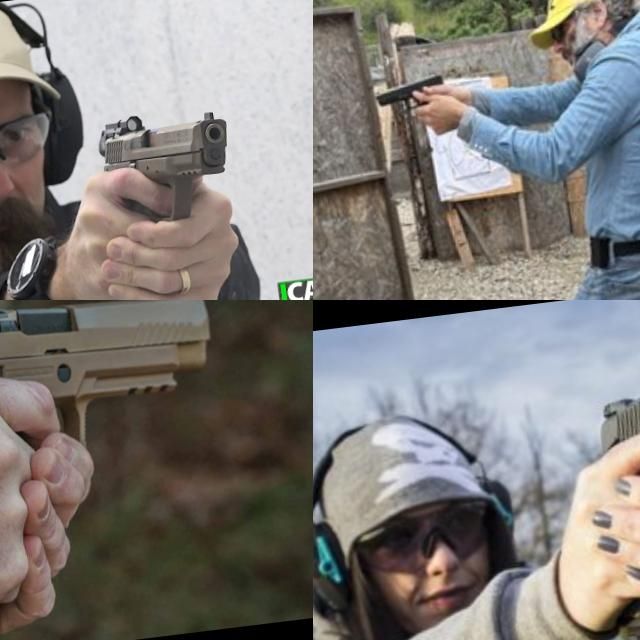handgun: (0, 300, 235, 517), (571, 300, 640, 640), (92, 102, 243, 240), (370, 66, 450, 121)
